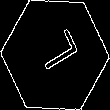L_SW: (29, 29, 81, 81)
